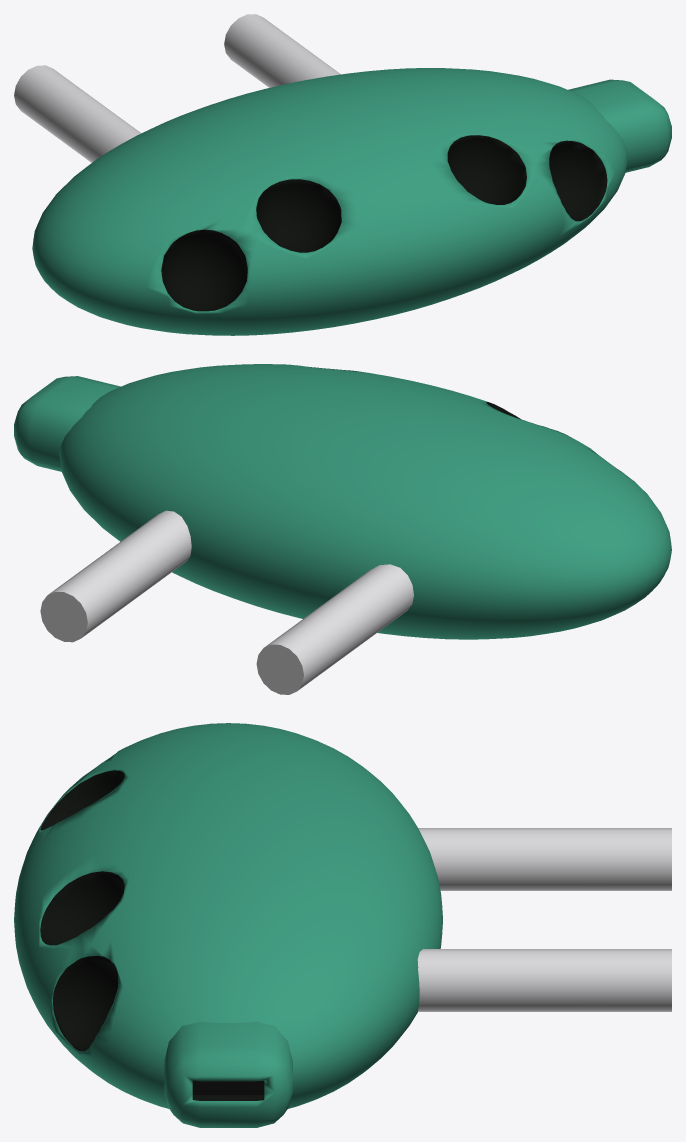
3 renders of one model, top to bottom at view 1: azimuth 30°, elevation 25°; view 2: azimuth 150°, elevation 25°; view 3: azimuth 270°, elevation 25°, orthographic. The views are drawn at different scales.
Visible parts, largest first — view 1: ocarina_v4_default; view 2: ocarina_v4_default; view 3: ocarina_v4_default.
Part boxes in pixels (box(x1,y1,x2,y2)): ocarina_v4_default: box(14, 14, 671, 335); ocarina_v4_default: box(14, 364, 671, 694); ocarina_v4_default: box(14, 723, 671, 1127).
Size of the model in its own units: 0.58 by 0.17 by 0.46.
